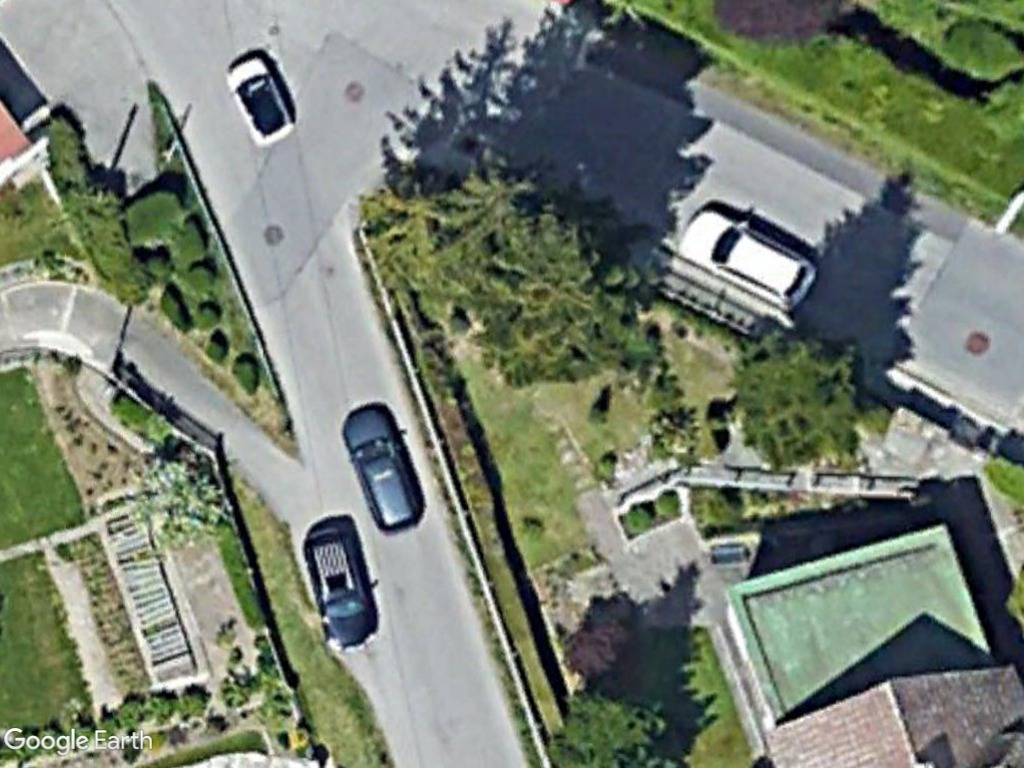car: (674, 202, 820, 314), (342, 399, 428, 535), (300, 518, 383, 656), (221, 51, 296, 149)
